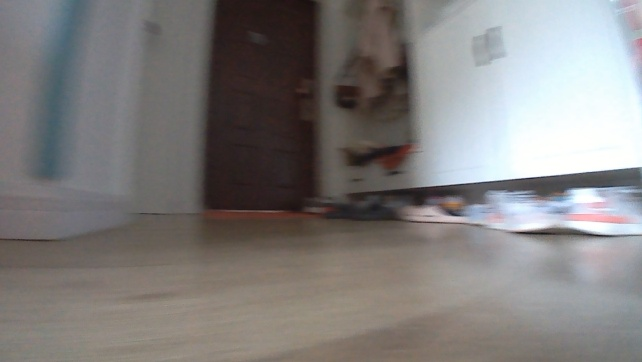door_anno: (201, 0, 321, 212)
